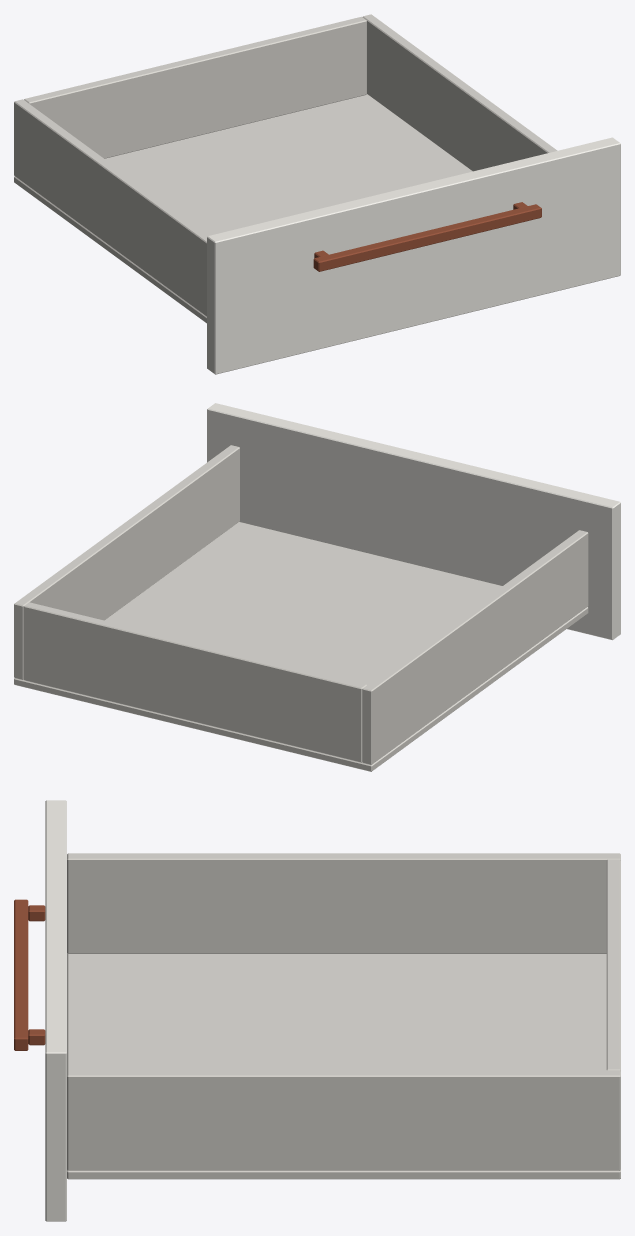
The model's file is l_kitchen_short_return_b3_top_drawer.glb.
The picture shows the model from 3 angles, top to bottom: view 1: azimuth 30°, elevation 25°; view 2: azimuth 150°, elevation 25°; view 3: azimuth 270°, elevation 25°; orthographic projection. The views are drawn at different scales.
Parts seen in each view (by area): view 1: l_kitchen_short_return_b3_top_drawer; view 2: l_kitchen_short_return_b3_top_drawer; view 3: l_kitchen_short_return_b3_top_drawer.
Part boxes in pixels (<box>): l_kitchen_short_return_b3_top_drawer: <box>14,14,620,374</box>; l_kitchen_short_return_b3_top_drawer: <box>14,403,620,771</box>; l_kitchen_short_return_b3_top_drawer: <box>14,800,620,1221</box>.
Size of the model in its own units: 0.497 by 0.1554 by 0.504.
